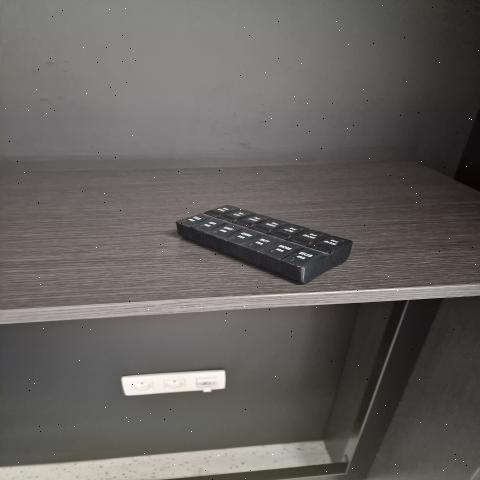Pill-box: (132, 150, 402, 355)
